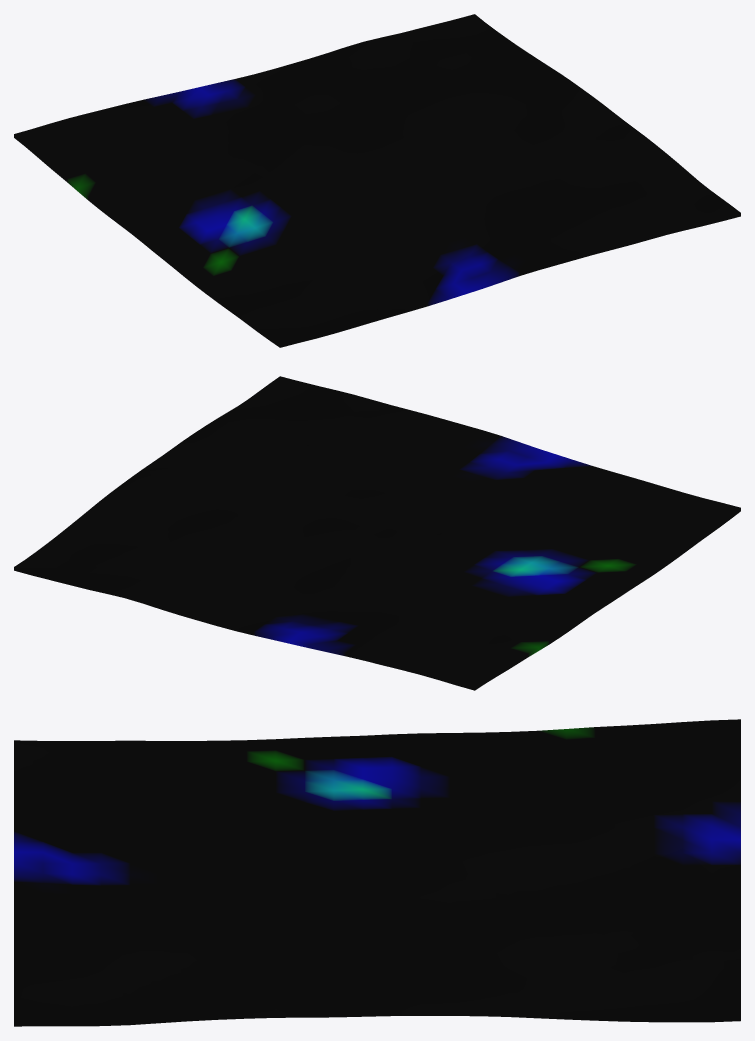
The model's file is coast_14_5.glb.
The picture shows the model from 3 angles, top to bottom: view 1: azimuth 30°, elevation 25°; view 2: azimuth 150°, elevation 25°; view 3: azimuth 270°, elevation 25°; orthographic projection. The views are drawn at different scales.
Parts seen in each view (by area): view 1: terrain; view 2: terrain; view 3: terrain.
Boxes of the visible parts, x1,y1,x2,y2 form: terrain: (14,14,740,347); terrain: (14,376,740,690); terrain: (14,719,740,1026).
Size of the model in its own units: 200 by 12.9 by 200.
